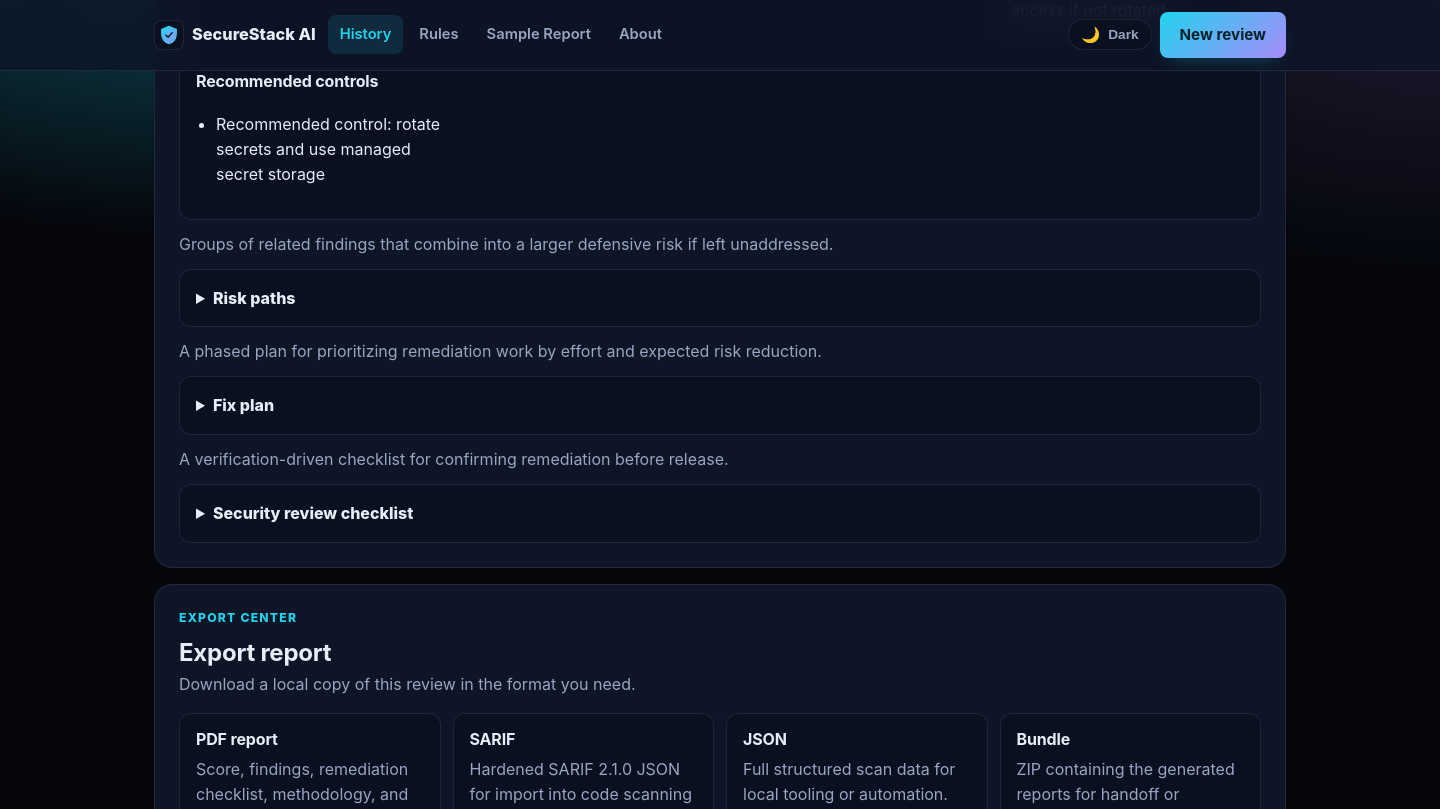
Test: results page › mocked fix plan renders phases and verification steps
The image size is (1440, 809).
(page scrolled)
Click the heading "Fix plan" at {"x": 244, "y": 405}, box [213,395,274,415]
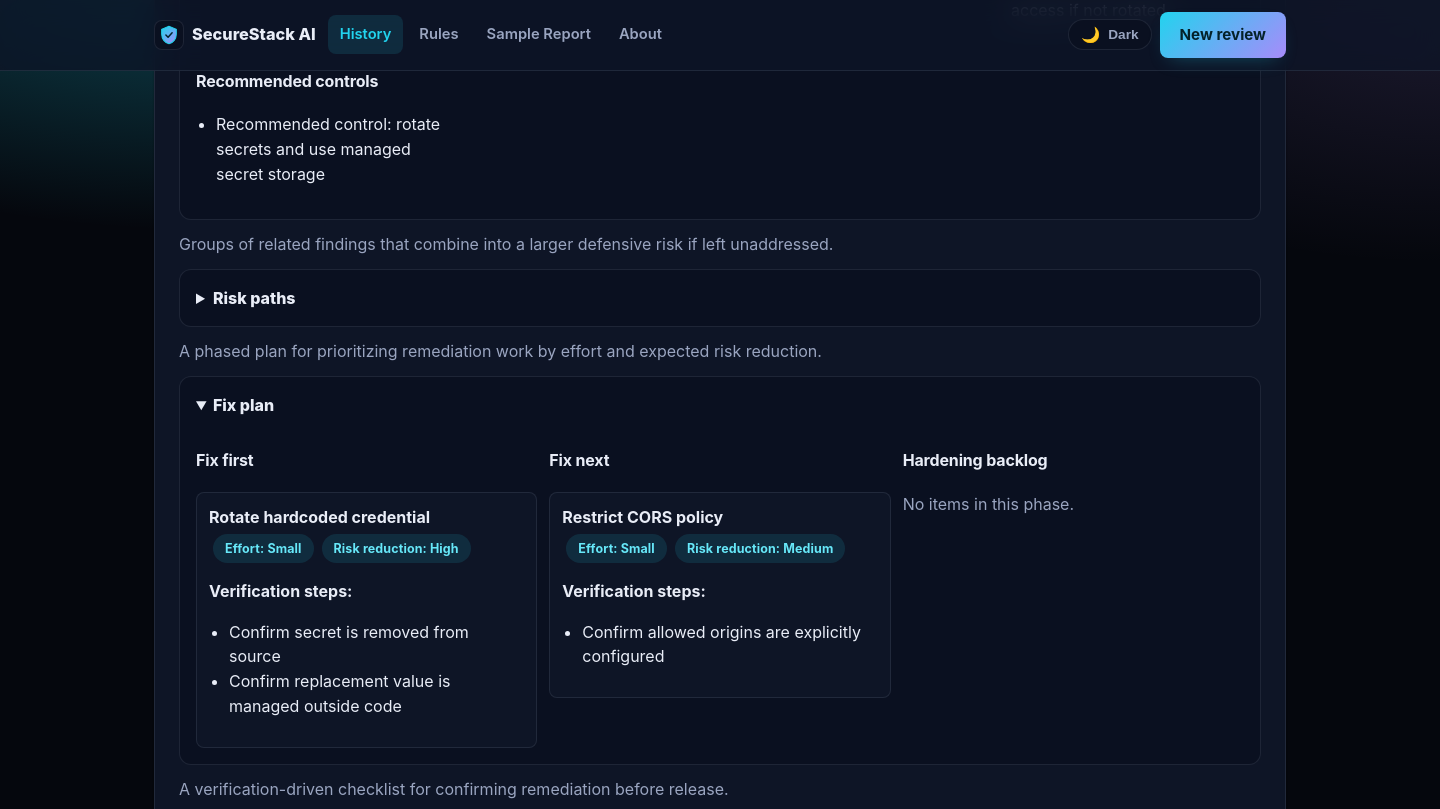
expect the heading "Fix first" is shown: met, box [196,450,254,470]
expect the text "Rotate hardcoded credential" is shown: met, box [209,507,430,527]
expect the list item "Confirm secret is removed from source" is shown: met, box [229,622,469,666]
